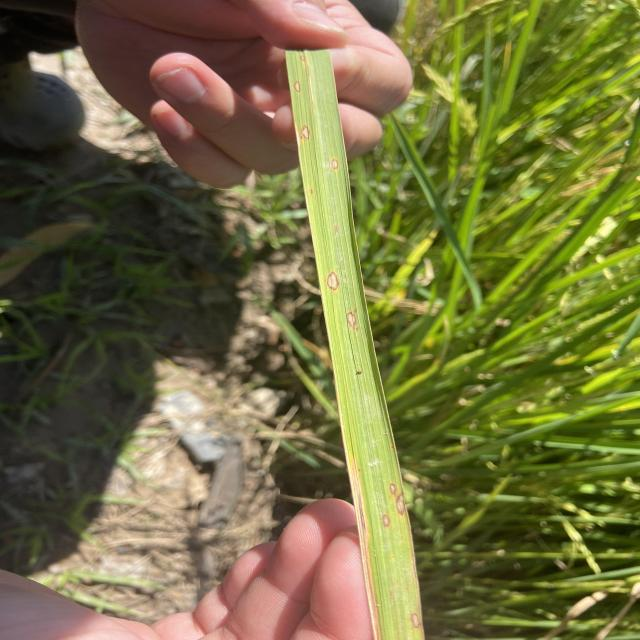Dao on: (327, 271, 339, 290), (396, 494, 406, 516), (347, 312, 356, 328), (412, 613, 419, 628), (302, 126, 309, 138), (383, 514, 390, 526), (294, 81, 300, 92), (332, 159, 338, 169), (391, 484, 396, 494), (300, 55, 305, 61)
